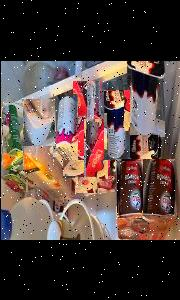Yogur: (126, 60, 164, 136), (73, 80, 100, 155), (140, 158, 174, 215), (104, 89, 130, 159), (53, 93, 78, 161), (22, 98, 55, 145), (116, 158, 142, 217), (84, 118, 108, 178), (2, 102, 23, 169), (130, 134, 159, 158), (63, 159, 90, 177), (5, 173, 27, 191), (75, 176, 98, 192), (94, 174, 114, 186)
